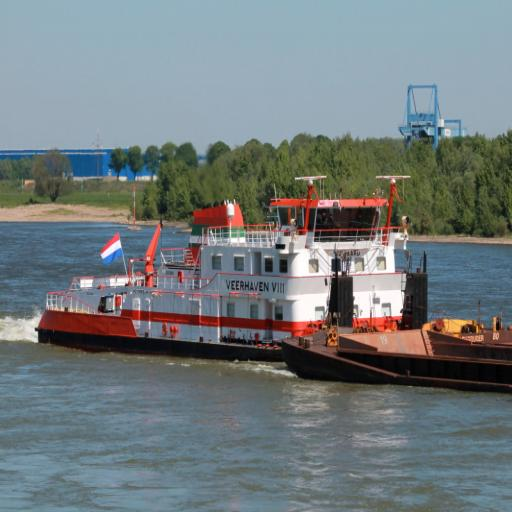tugboat: (34, 173, 432, 368)
